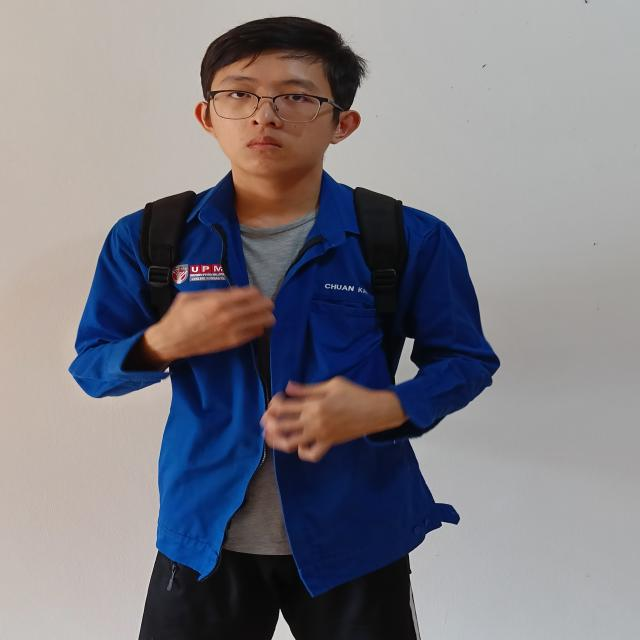person_with_labcoat: (70, 17, 499, 640)
